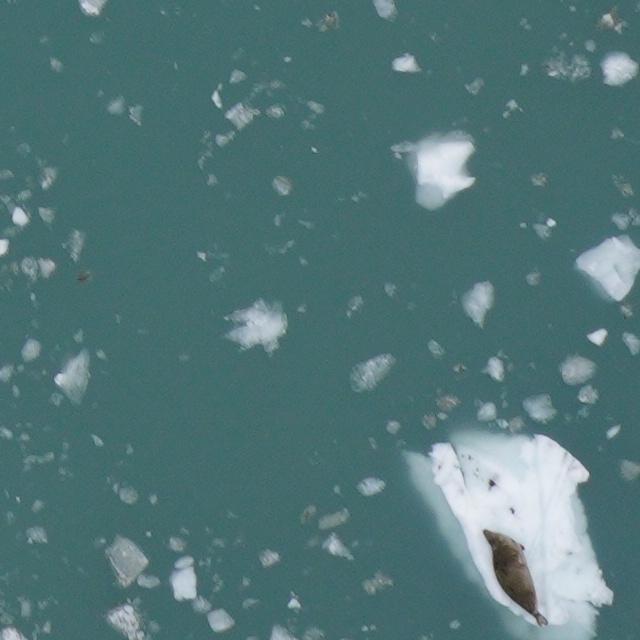seal: (479, 524, 554, 632)
